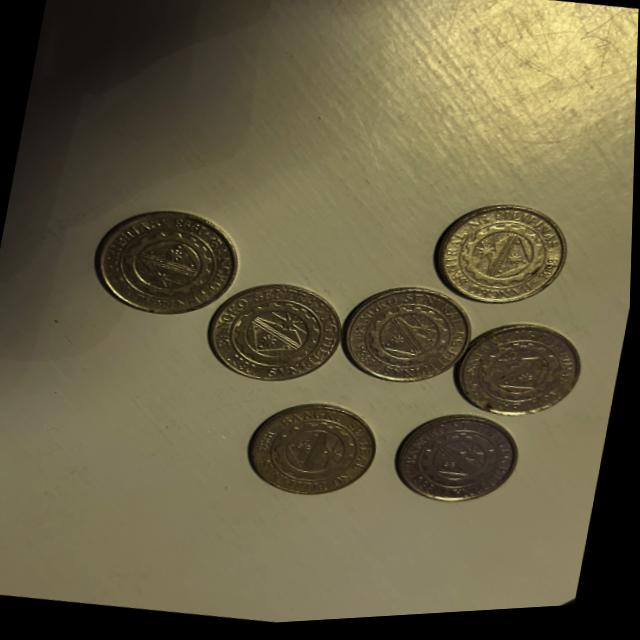1_Old_Back: (106, 218, 227, 315), (224, 291, 333, 386), (469, 336, 573, 421), (263, 416, 369, 499), (457, 218, 558, 305)
